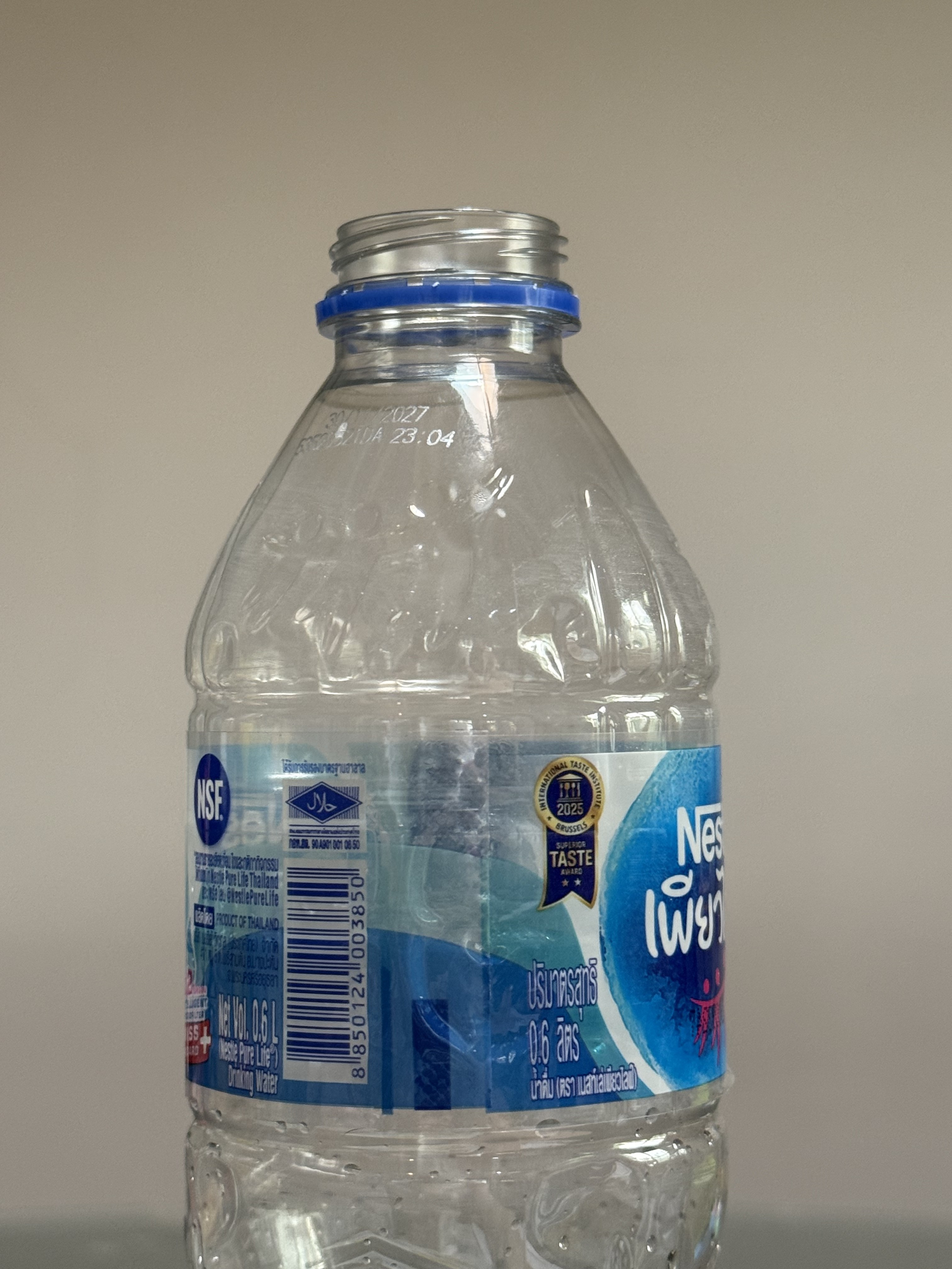no_cap: (311, 202, 583, 328)
